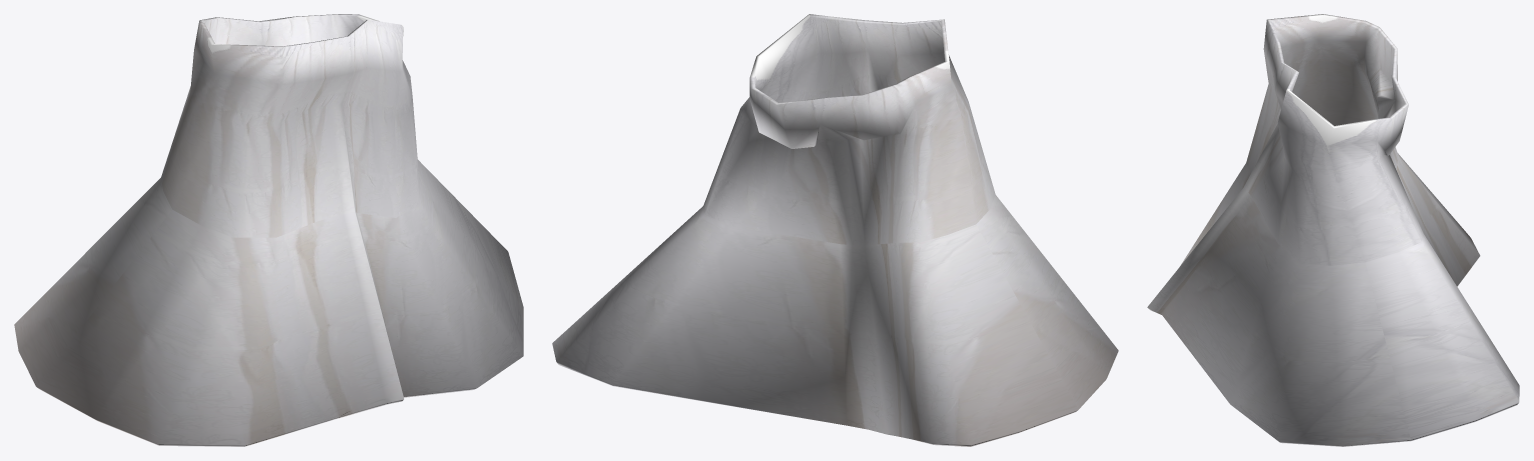
File: Bottom8.fbx
3 renders of one model, left to right at view 1: azimuth 30°, elevation 25°; view 2: azimuth 150°, elevation 25°; view 3: azimuth 270°, elevation 25°, orthographic. The views are drawn at different scales.
Visible parts, largest first — view 1: F.Bottom.Short.002; view 2: F.Bottom.Short.002; view 3: F.Bottom.Short.002.
Boxes of the visible parts, box(x1,y1,x2,y2) form: F.Bottom.Short.002: box(14, 14, 523, 446); F.Bottom.Short.002: box(552, 14, 1118, 446); F.Bottom.Short.002: box(1147, 14, 1519, 446).
Size of the model in its own units: 814 by 581 by 611.
